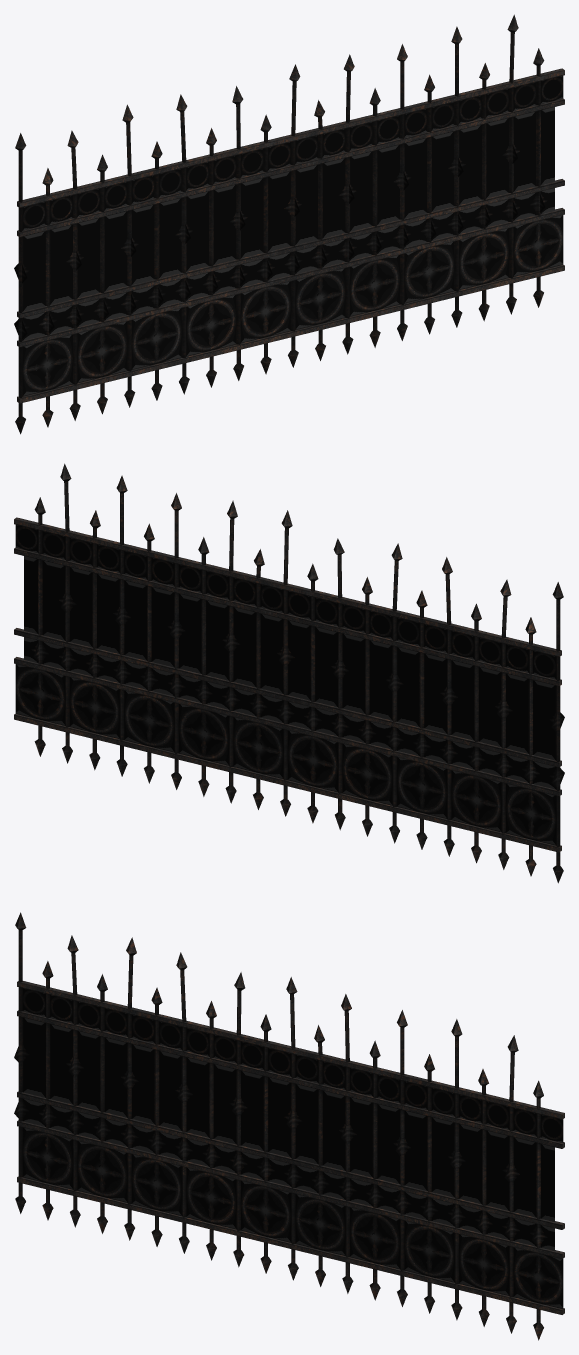
Rendered from Iron Fence Short.FBX.
3 views of the same model, one above another, from view 1: azimuth 30°, elevation 25°; view 2: azimuth 150°, elevation 25°; view 3: azimuth 330°, elevation 25° (orthographic).
Visible parts, largest first — view 1: Iron Fence Short; view 2: Iron Fence Short; view 3: Iron Fence Short.
Part boxes in pixels (box(x1,y1,x2,y2)): Iron Fence Short: box(14, 14, 564, 434); Iron Fence Short: box(14, 463, 564, 883); Iron Fence Short: box(14, 912, 564, 1340).
Size of the model in its own units: 40.24 by 21.44 by 1.71.
Materials: 2 (2 with a texture image).
